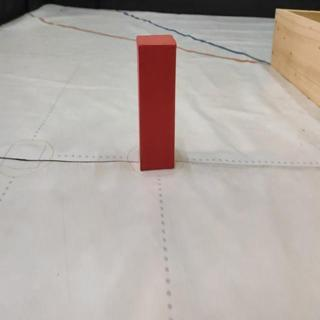redbox: (135, 35, 178, 172)
